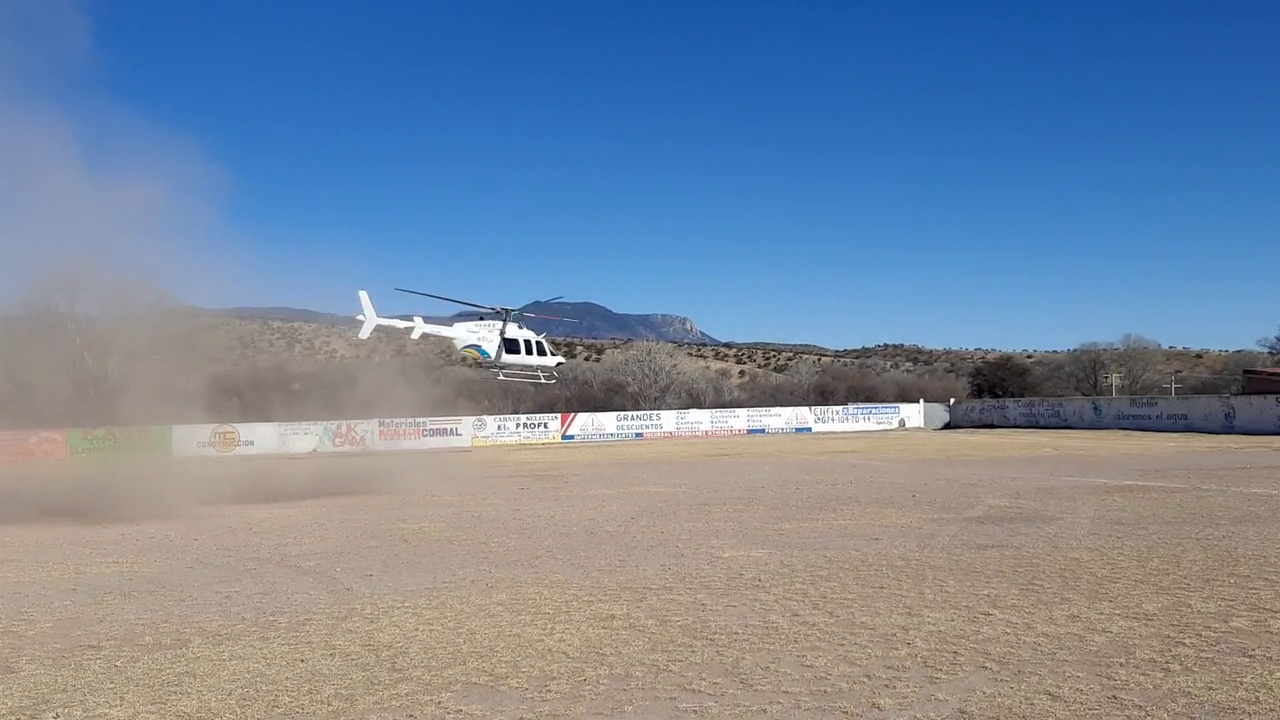heli: (354, 288, 579, 384)
